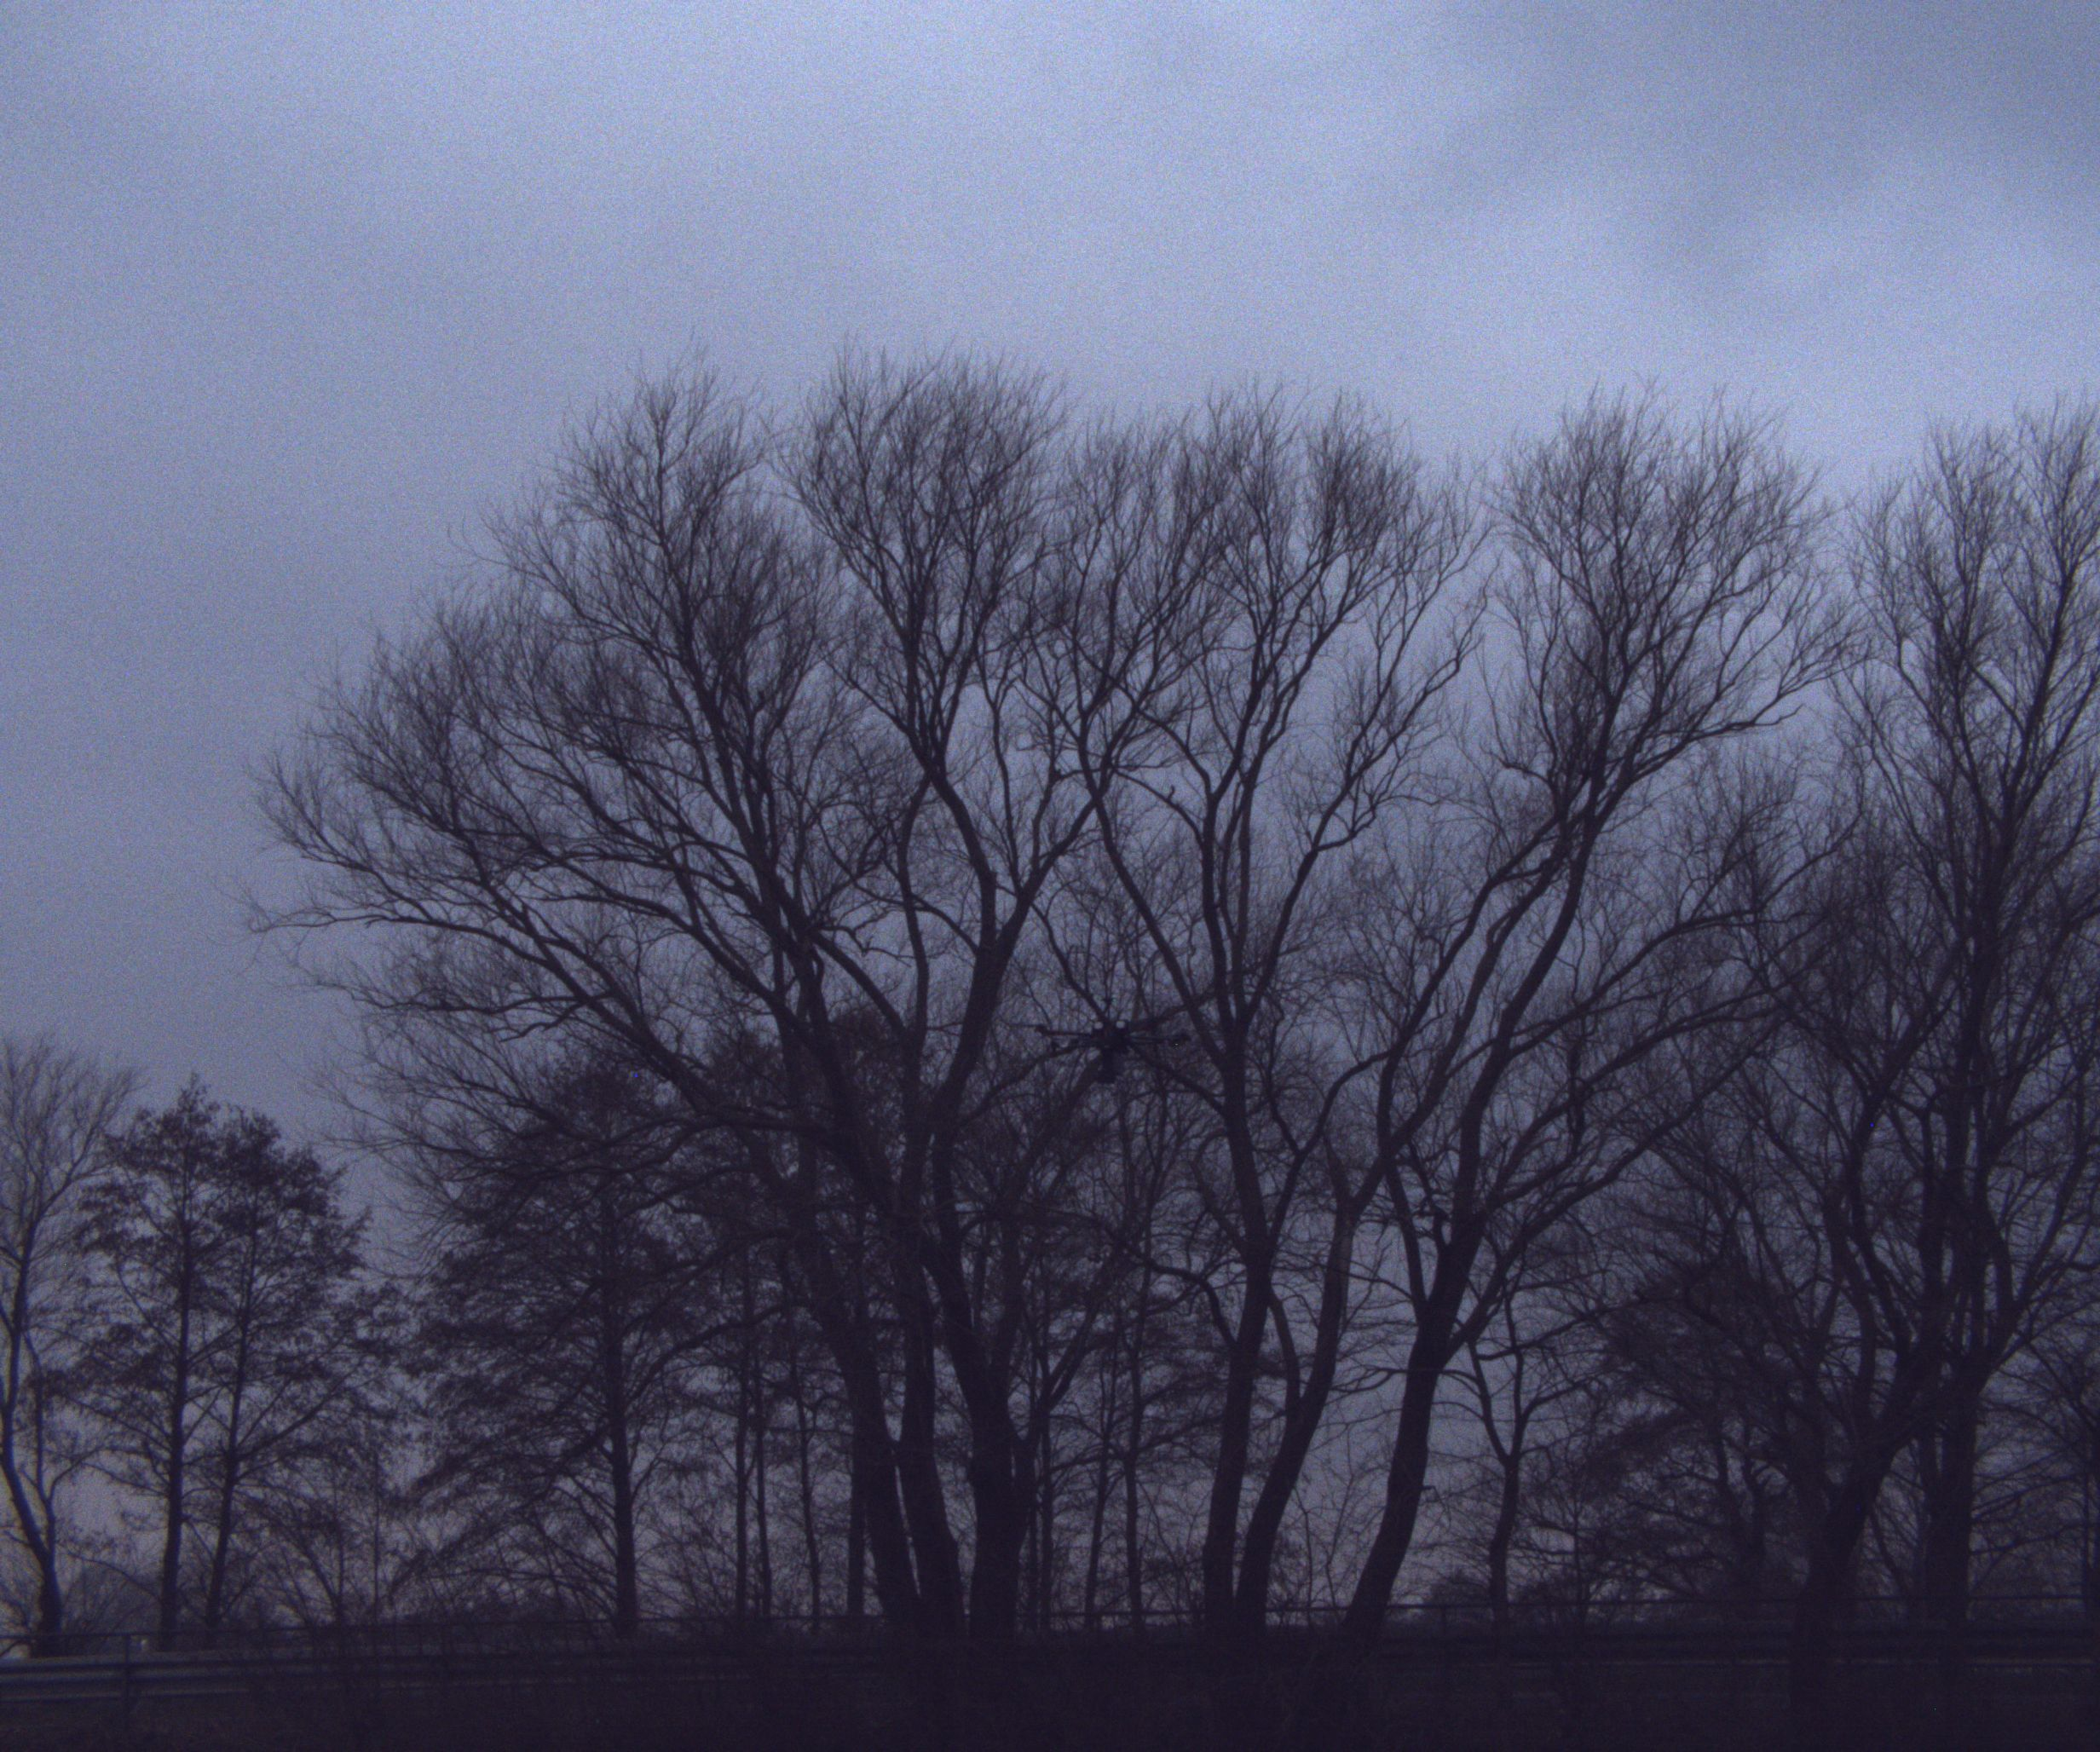Drohne: (1012, 976, 1207, 1135)
